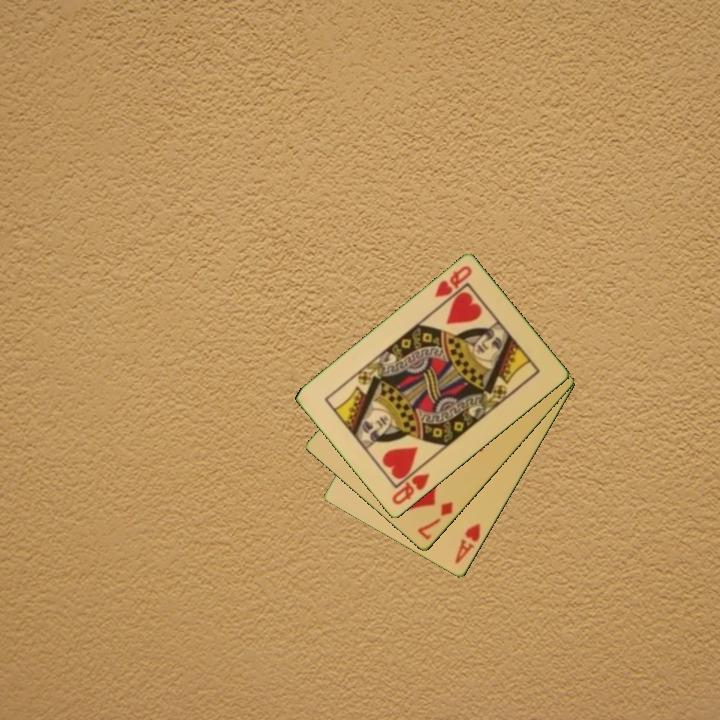7d: (414, 499, 456, 543)
Ah: (451, 520, 484, 568)
Qh: (388, 470, 433, 508), (431, 263, 475, 301)
